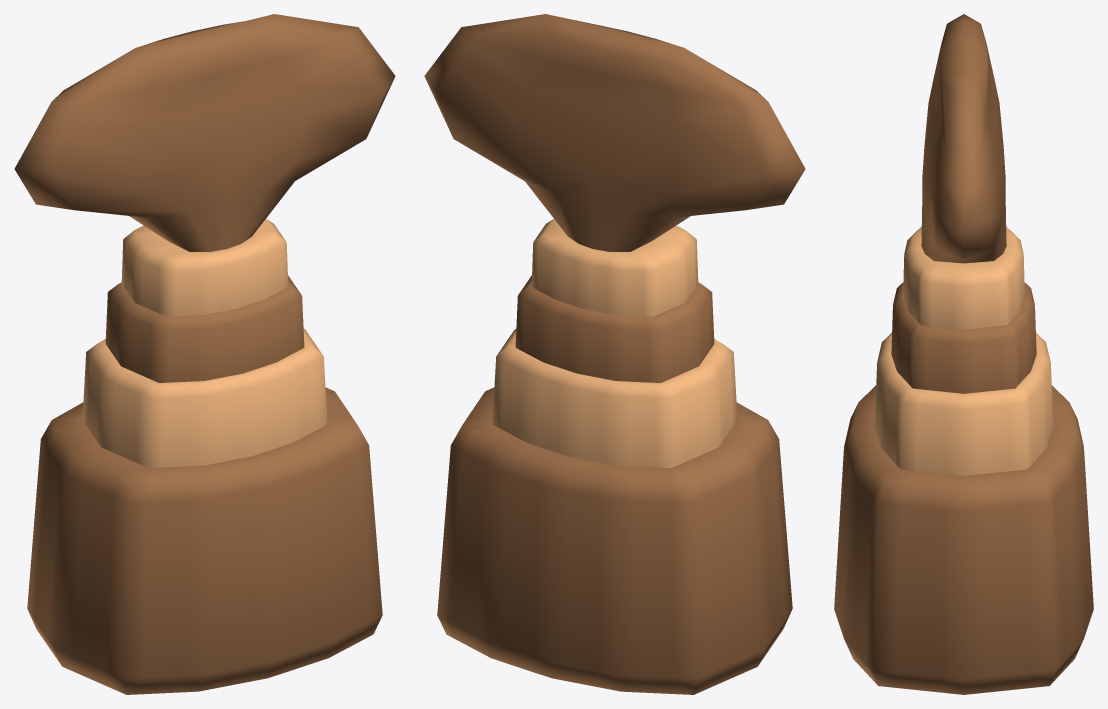
The model's file is Lobster Tail (Boneless).fbx.
3 renders of one model, left to right at view 1: azimuth 30°, elevation 25°; view 2: azimuth 150°, elevation 25°; view 3: azimuth 270°, elevation 25°, orthographic. The views are drawn at different scales.
Visible parts, largest first — view 1: Lobster Tail - Xantoss (PercyCreeper); view 2: Lobster Tail - Xantoss (PercyCreeper); view 3: Lobster Tail - Xantoss (PercyCreeper).
Boxes of the visible parts, <box> form: Lobster Tail - Xantoss (PercyCreeper): <box>14,14,395,694</box>; Lobster Tail - Xantoss (PercyCreeper): <box>424,14,805,694</box>; Lobster Tail - Xantoss (PercyCreeper): <box>834,14,1093,694</box>.
Bounding box in the file's own units: 73.04 × 110 × 45.05.
